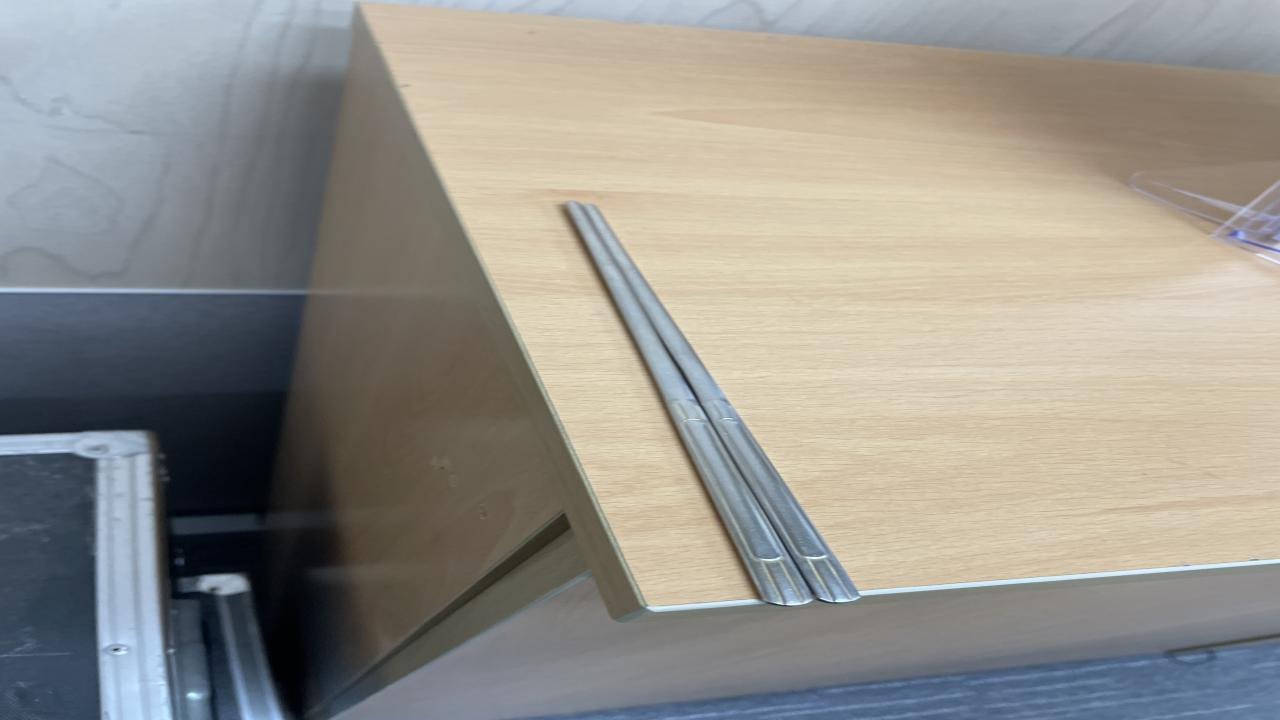chopstick: (558, 202, 864, 602)
